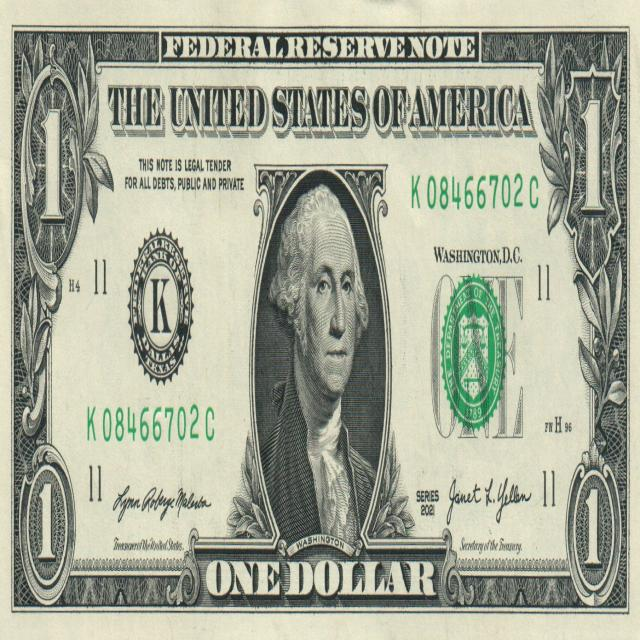SerialNumber: (88, 404, 214, 441), (412, 174, 538, 209)
